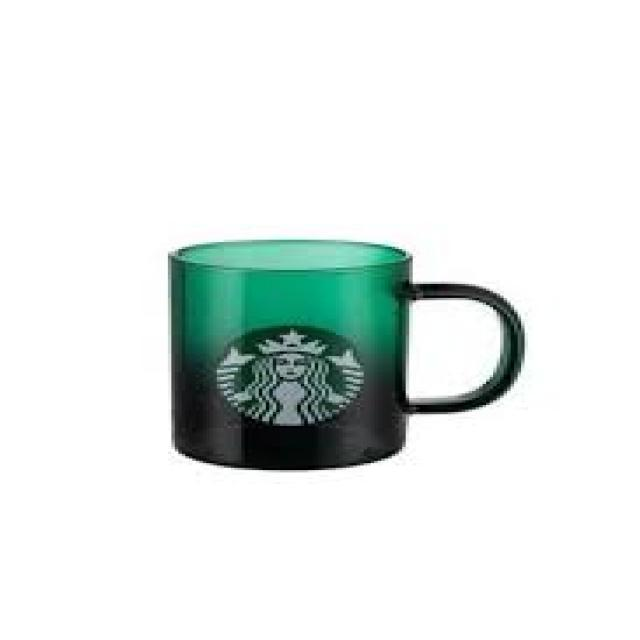taza: (168, 237, 526, 472)
